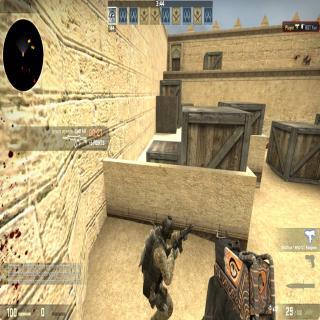CT-Body: (141, 214, 179, 320)
CT-Head: (159, 213, 176, 240)
